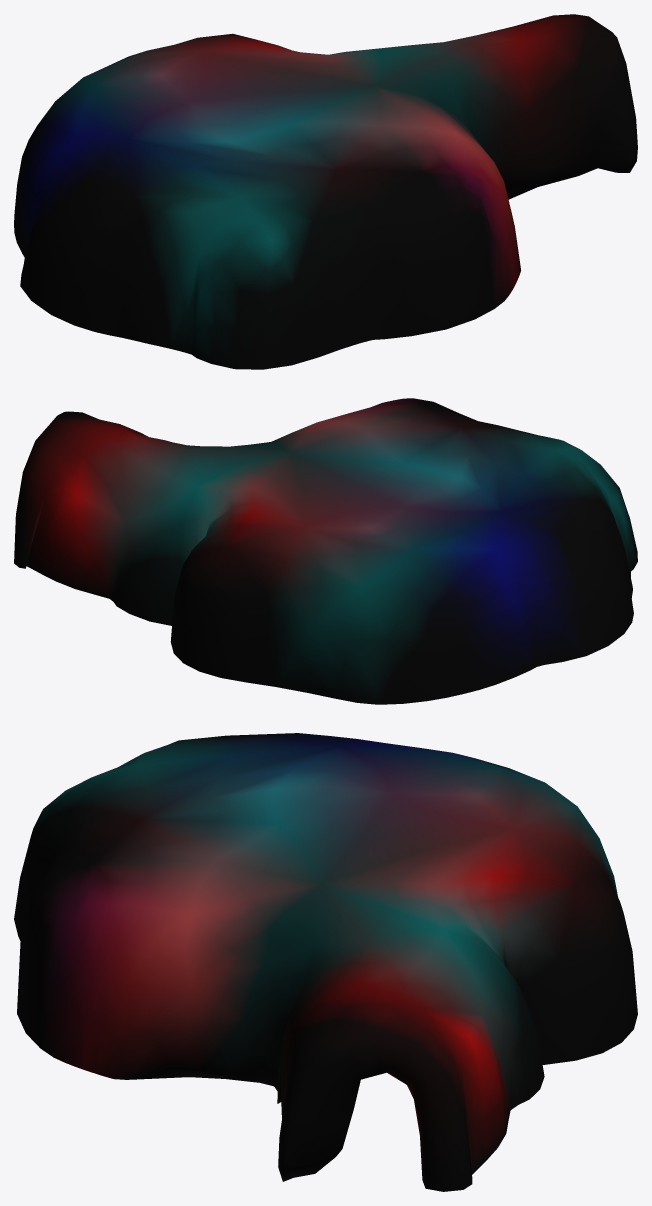
The model's file is landscape_cave_ceil.gltf.
3 views of the same model, one above another, from view 1: azimuth 30°, elevation 25°; view 2: azimuth 150°, elevation 25°; view 3: azimuth 270°, elevation 25° (orthographic). The views are drawn at different scales.
Parts seen in each view (by area): view 1: landscape_cave; view 2: landscape_cave; view 3: landscape_cave.
Part boxes in pixels (x1,y1,x2,y2): landscape_cave: [14, 14, 637, 369]; landscape_cave: [14, 398, 637, 704]; landscape_cave: [14, 733, 637, 1191].
Size of the model in its own units: 67.1 by 15.06 by 51.21.
